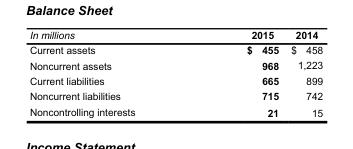table: (28, 29, 322, 117)
table column: (28, 29, 190, 117), (190, 29, 284, 117), (284, 29, 322, 117)
table column header: (28, 29, 322, 42)
table row: (28, 87, 322, 103), (28, 42, 322, 57), (28, 57, 322, 72), (28, 72, 322, 87), (28, 103, 322, 117), (28, 29, 322, 42)
